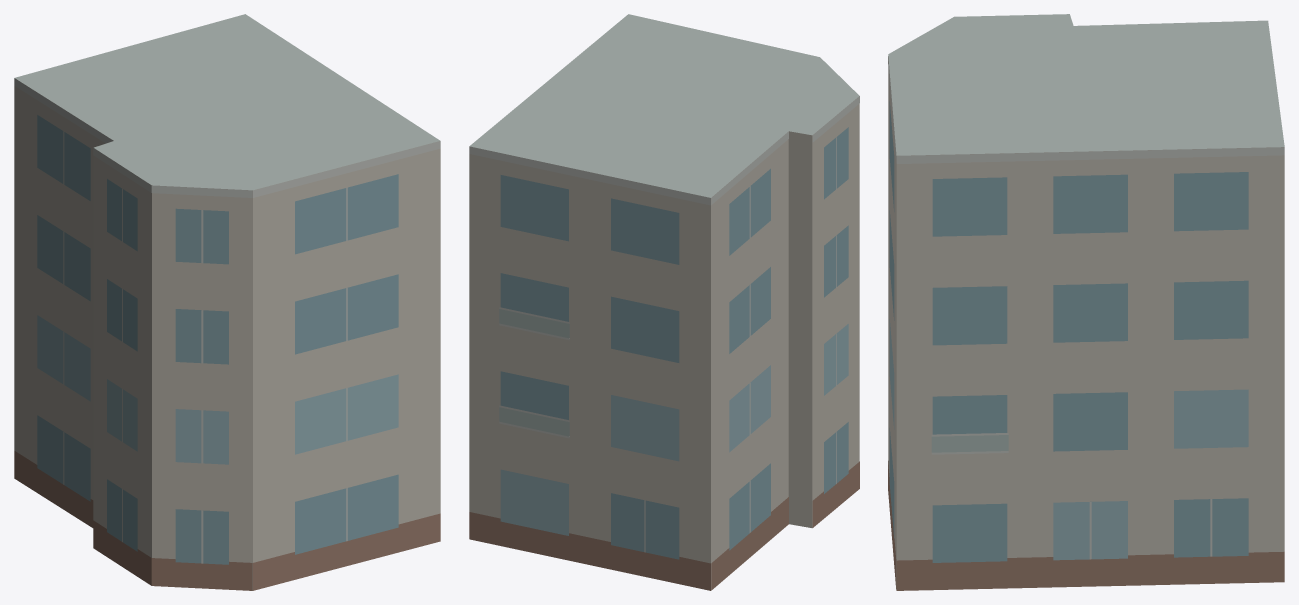
The model's file is survey-upis-32627646.glb.
The picture shows the model from 3 angles, left to right: view 1: azimuth 30°, elevation 25°; view 2: azimuth 150°, elevation 25°; view 3: azimuth 270°, elevation 25°; orthographic projection. The views are drawn at different scales.
Parts seen in each view (by area): view 1: survey-upis-32627646.tmp; view 2: survey-upis-32627646.tmp; view 3: survey-upis-32627646.tmp.
Boxes of the visible parts, box(x1,y1,x2,y2) form: survey-upis-32627646.tmp: box(14, 14, 440, 590); survey-upis-32627646.tmp: box(469, 14, 859, 590); survey-upis-32627646.tmp: box(888, 14, 1284, 590).
Bounding box in the file's own units: 8.85 × 12.65 × 10.46.
